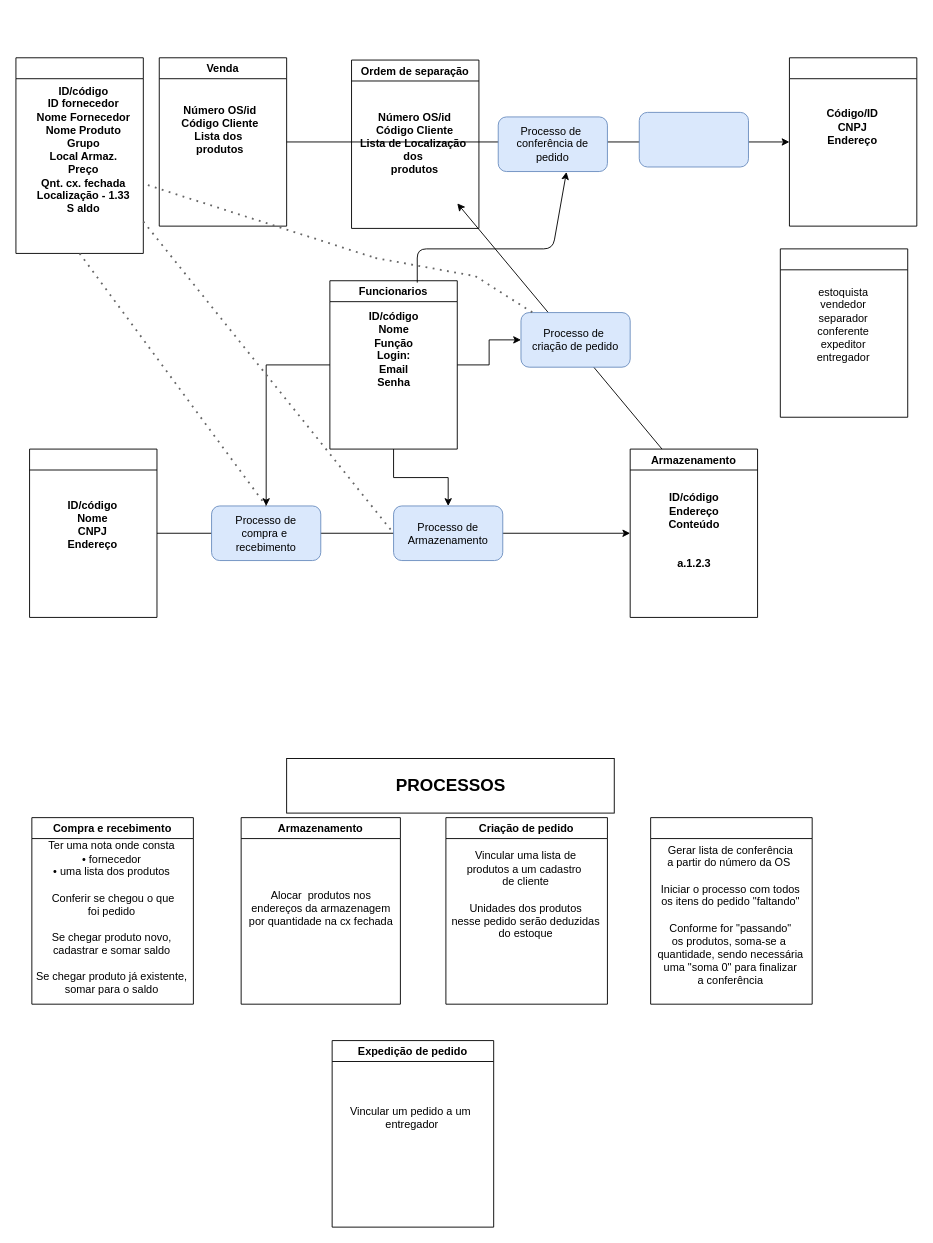
Image size: 933x1243. Some labels were removed from this diagram. Here are the shapes that lost their labels. From the top down, the box of each, then its label:
(15, 57, 143, 253): Produtos
(638, 111, 748, 167): Processo de expedição de pedido
(789, 57, 917, 226): Clientes
(779, 248, 908, 417): funções
(29, 448, 157, 617): Fornecedores
(650, 817, 812, 1004): Conferência de pedido
